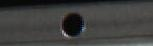holes: (59, 12, 85, 38)
